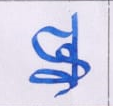u_matra: (25, 58, 93, 86)
